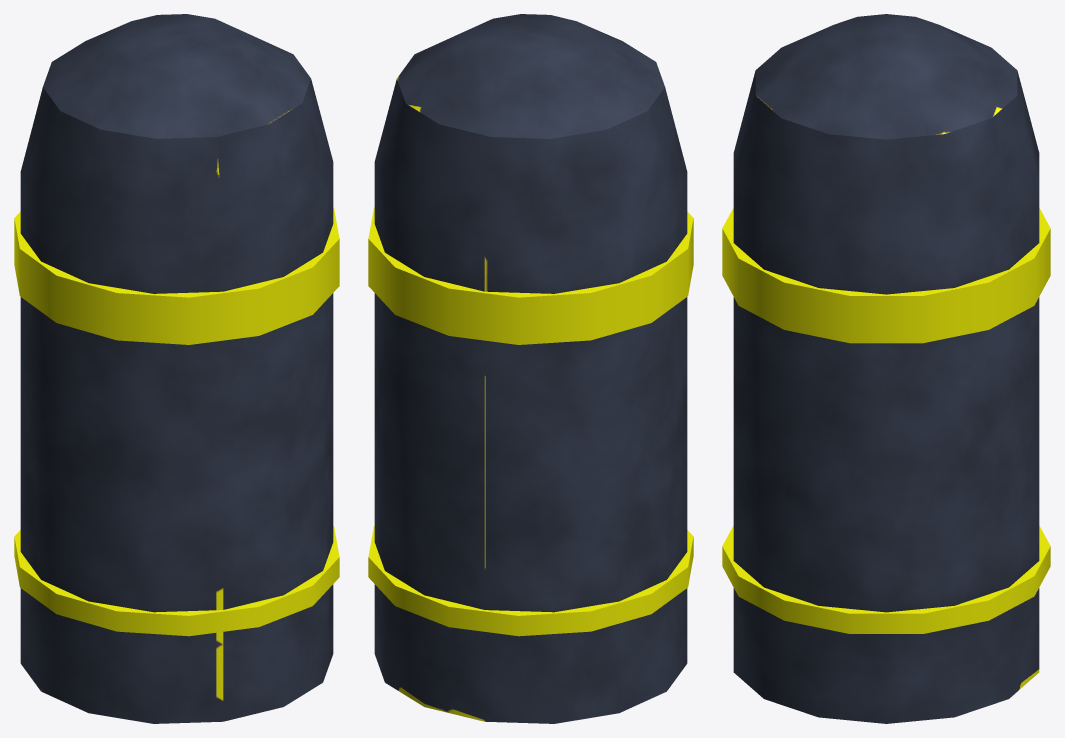
Rendered from bollard.fbx.
3 renders of one model, left to right at view 1: azimuth 30°, elevation 25°; view 2: azimuth 150°, elevation 25°; view 3: azimuth 270°, elevation 25°, orthographic.
Visible parts, largest first — view 1: bollard, bollard_glow; view 2: bollard, bollard_glow; view 3: bollard, bollard_glow.
Part boxes in pixels (x1,y1,x2,y2): bollard: (20, 14, 333, 723); bollard_glow: (14, 207, 339, 636); bollard: (374, 14, 687, 723); bollard_glow: (368, 207, 693, 636); bollard: (733, 14, 1039, 723); bollard_glow: (722, 208, 1050, 633).
Size of the model in its own units: 85.79 by 184 by 88.
1 material, 1 textured.
